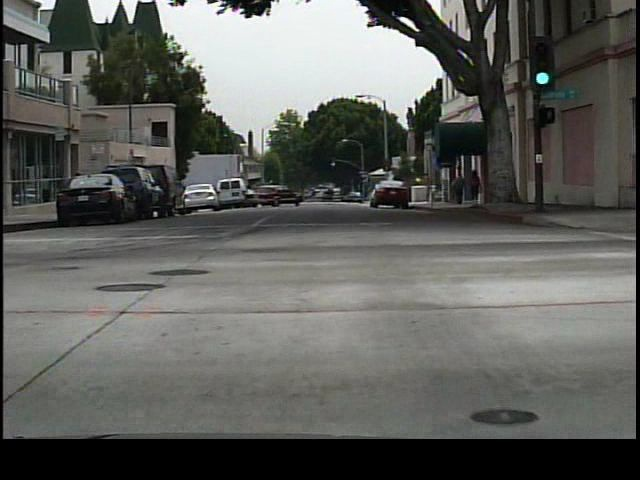person: (468, 166, 486, 210), (448, 174, 469, 209)
